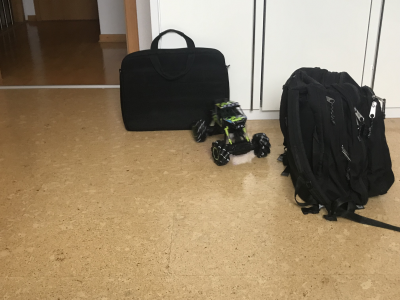remote control car: (190, 99, 273, 168)
